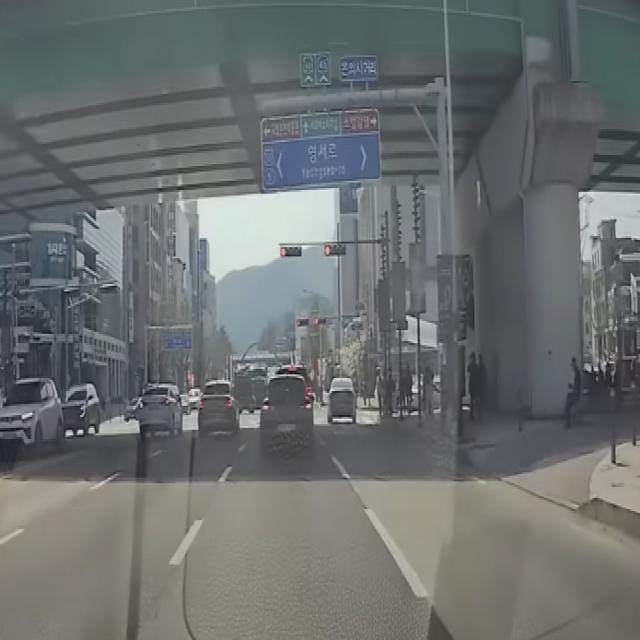Red Light: (324, 244, 330, 256), (280, 246, 286, 257)
